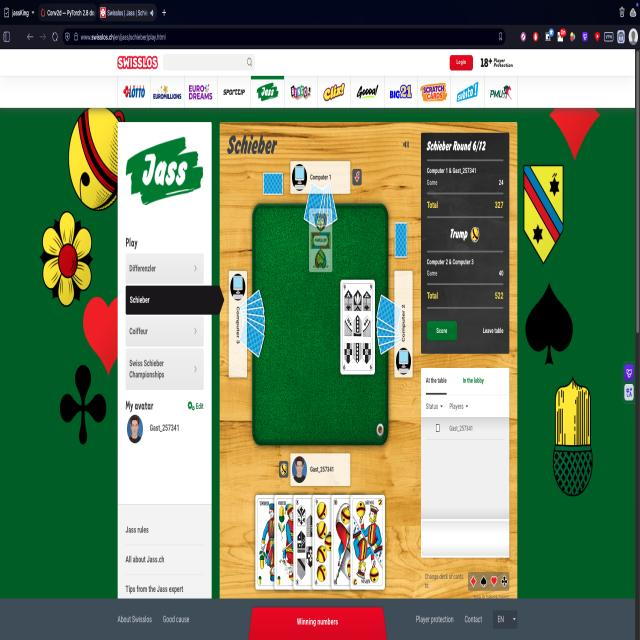eio: (276, 497, 304, 589)
eiu: (255, 496, 289, 590)
se10: (332, 494, 364, 594)
se9: (313, 494, 347, 588)
sek: (351, 494, 386, 592)
si8: (294, 496, 327, 588)
si9: (341, 278, 374, 372)
